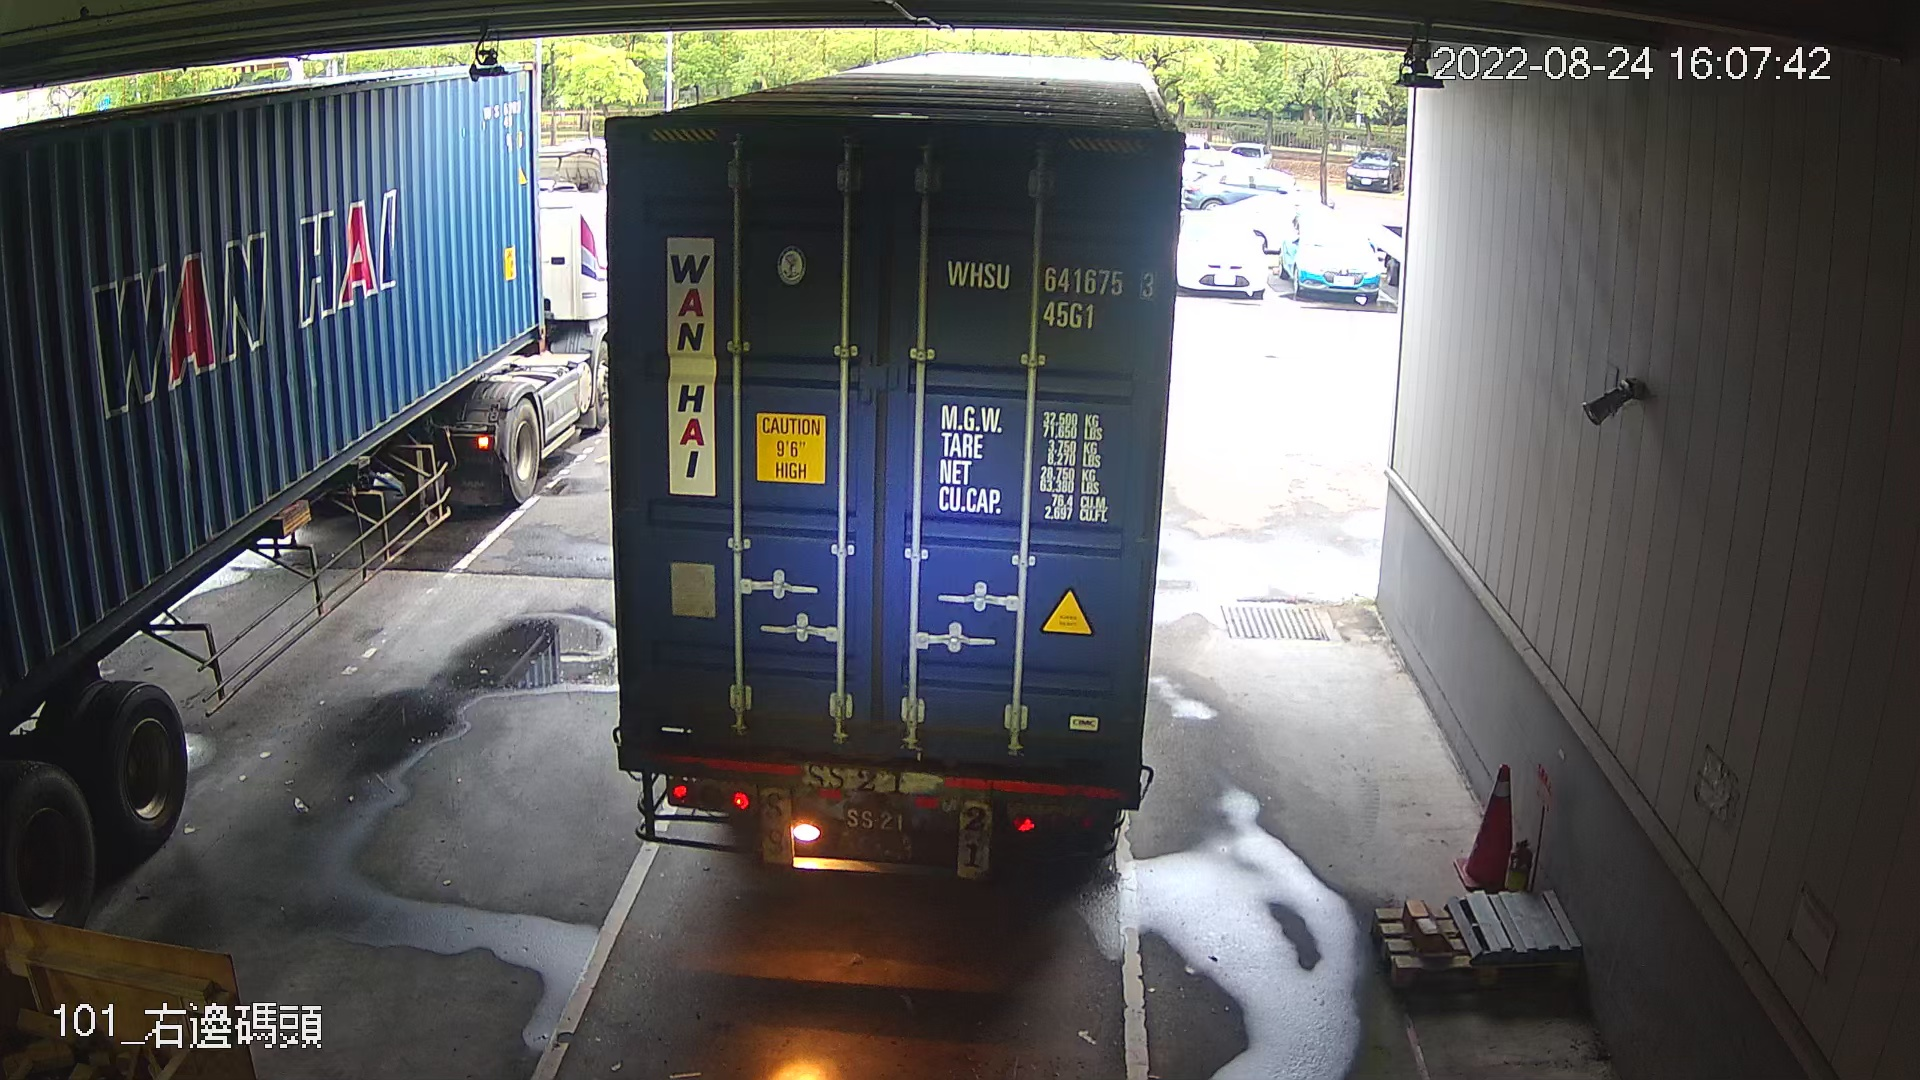container: (942, 247, 1162, 336)
